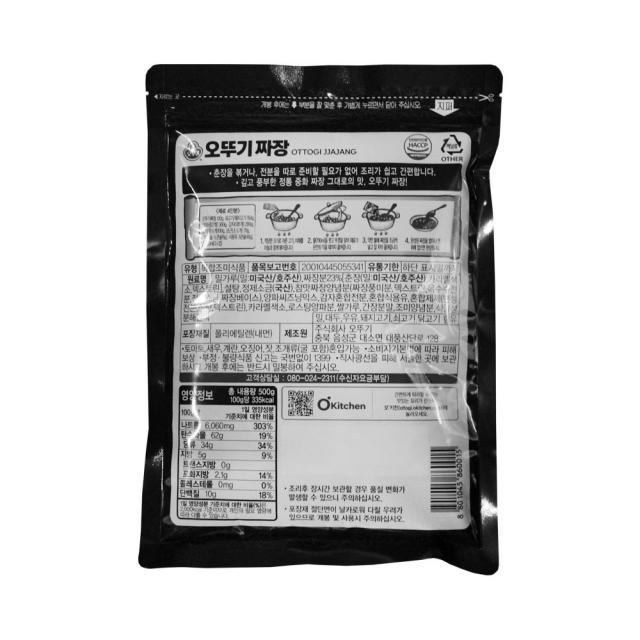Nutrition Label: (174, 384, 293, 534)
